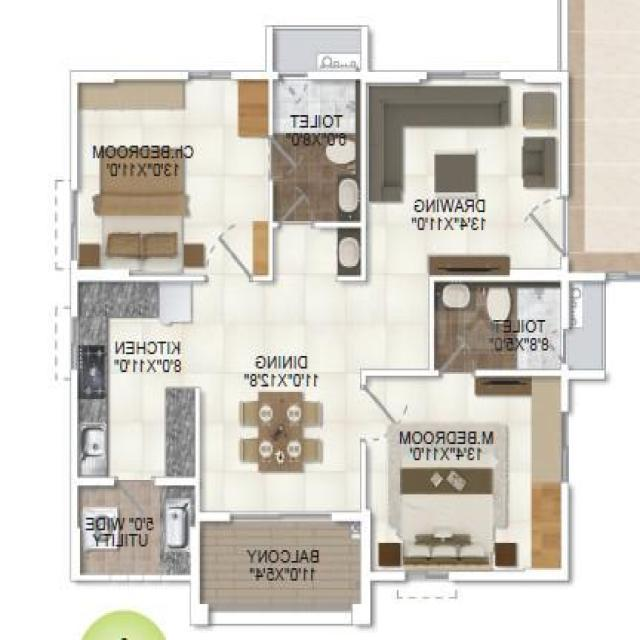Balcony-Sitout: (190, 513, 370, 625)
Bedroom: (73, 75, 275, 280)
Bedroom with Toilet: (358, 275, 572, 580)
Dining: (231, 388, 328, 475)
Kitchen: (72, 272, 204, 490)
Living: (360, 75, 571, 285)
Toilet: (269, 72, 366, 226), (427, 272, 569, 377)
Utility: (69, 476, 201, 581)
